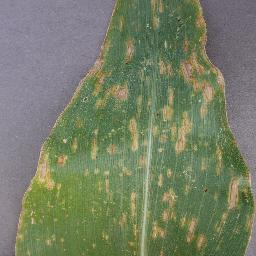Gray_Leaf_Spot: (66, 0, 235, 256), (11, 108, 65, 256), (236, 143, 254, 256)
